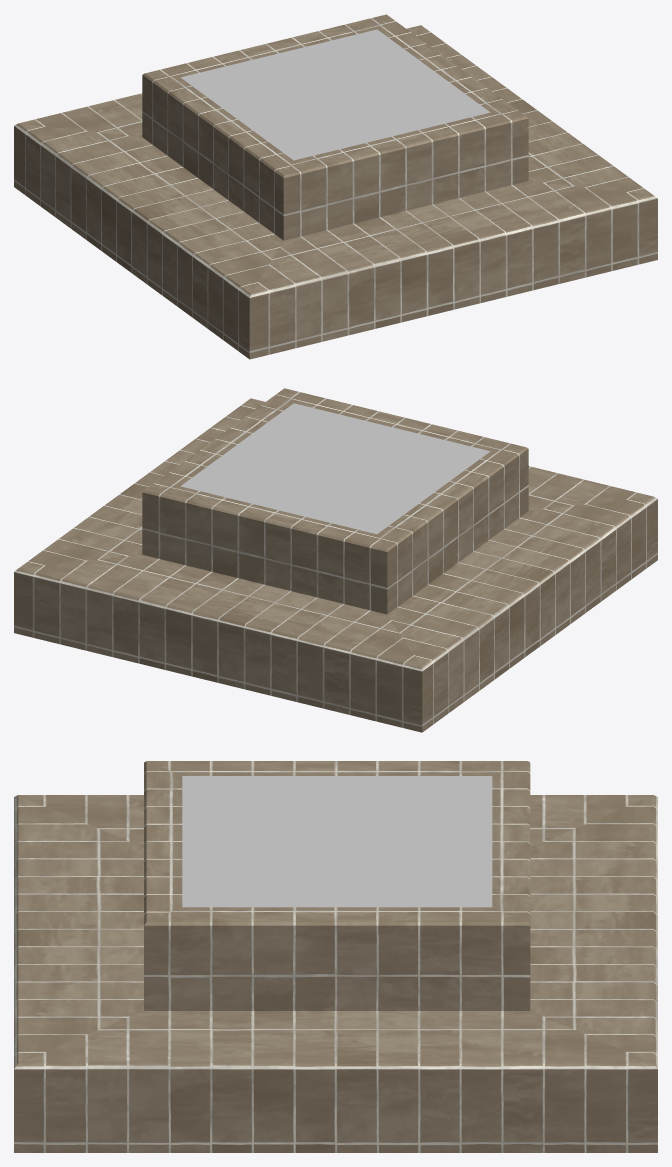
Rendered from PlatformStack1.fbx.
3 views of the same model, one above another, from view 1: azimuth 30°, elevation 25°; view 2: azimuth 150°, elevation 25°; view 3: azimuth 270°, elevation 25° (orthographic). The views are drawn at different scales.
Visible parts, largest first — view 1: PlatformStack1; view 2: PlatformStack1; view 3: PlatformStack1.
Boxes of the visible parts, left/top/right/bottom form: PlatformStack1: left=14, top=14, right=657, bottom=359; PlatformStack1: left=14, top=388, right=657, bottom=732; PlatformStack1: left=14, top=761, right=657, bottom=1152.
Size of the model in its own units: 500 by 150 by 500.
